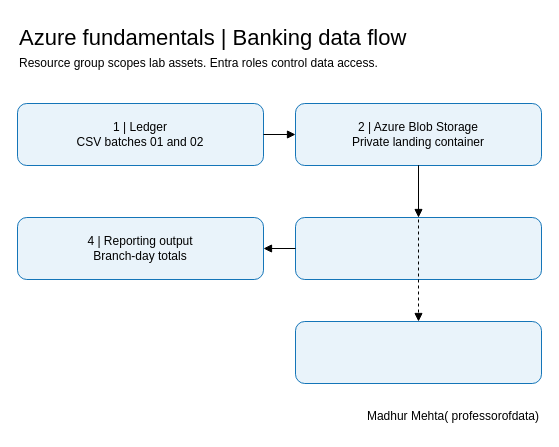
Image size: 559x447. Some labels were removed from this diagram. The shapes that lost their labels are listed below. From the top down, each one's box as (x1, y1, x2, y2) in pixels, then its label:
(294, 216, 542, 280): 3 | Synapse serverless SQL Latest posting by version
(294, 320, 542, 384): Recovery Inspect inventory, retry batch
